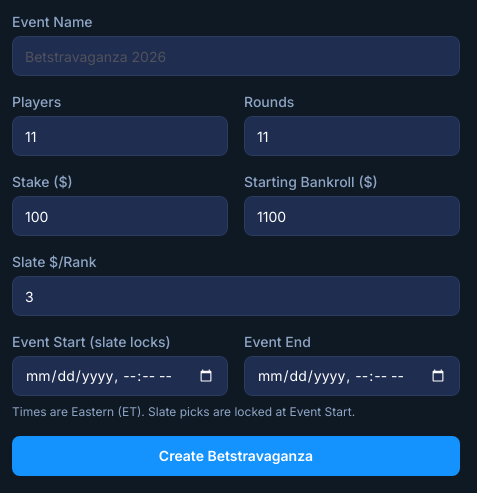
SetupForm › disables submit button while loading
In the field labelled "Event Name": (236, 56) x1=12 y1=36 x2=460 y2=76, type "Test"
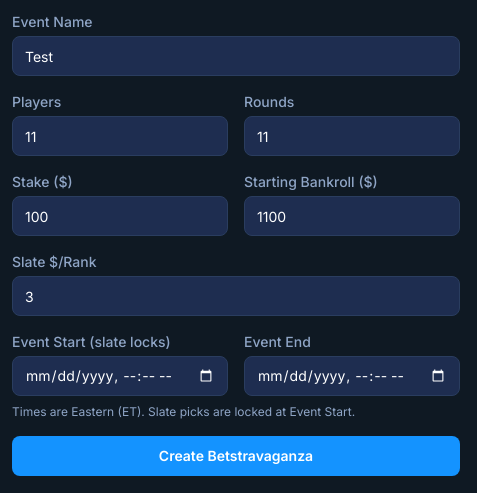
Submit the form named "create"
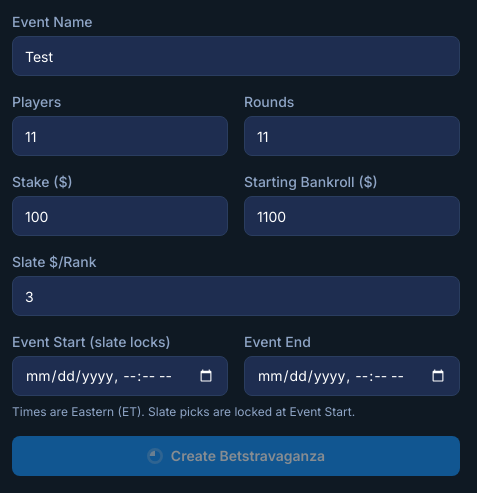
Now the button "Create Betstravaganza" is disabled, box x1=12 y1=436 x2=460 y2=476
